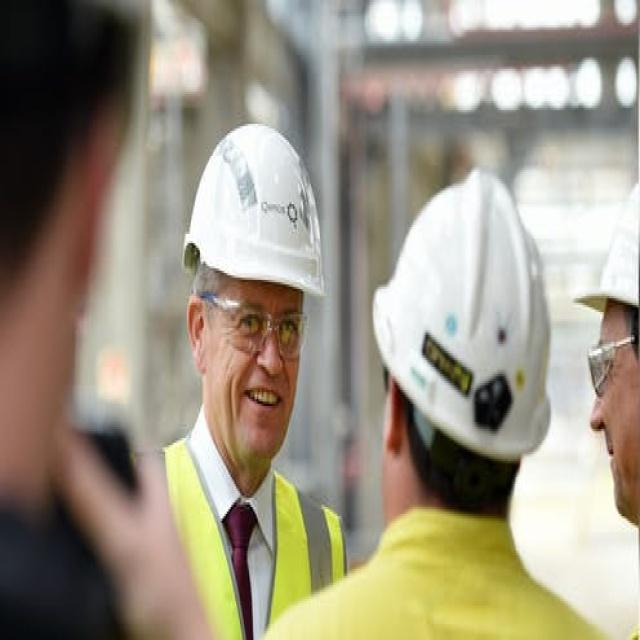helmet: (364, 227, 557, 640), (181, 155, 332, 640), (569, 217, 639, 640)
vest: (135, 569, 351, 640)
